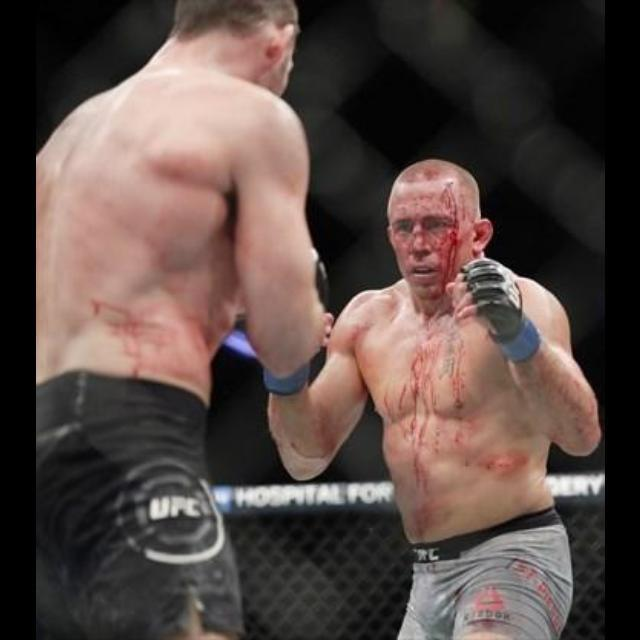blood: (350, 184, 528, 531), (90, 298, 216, 404), (244, 21, 296, 94)
